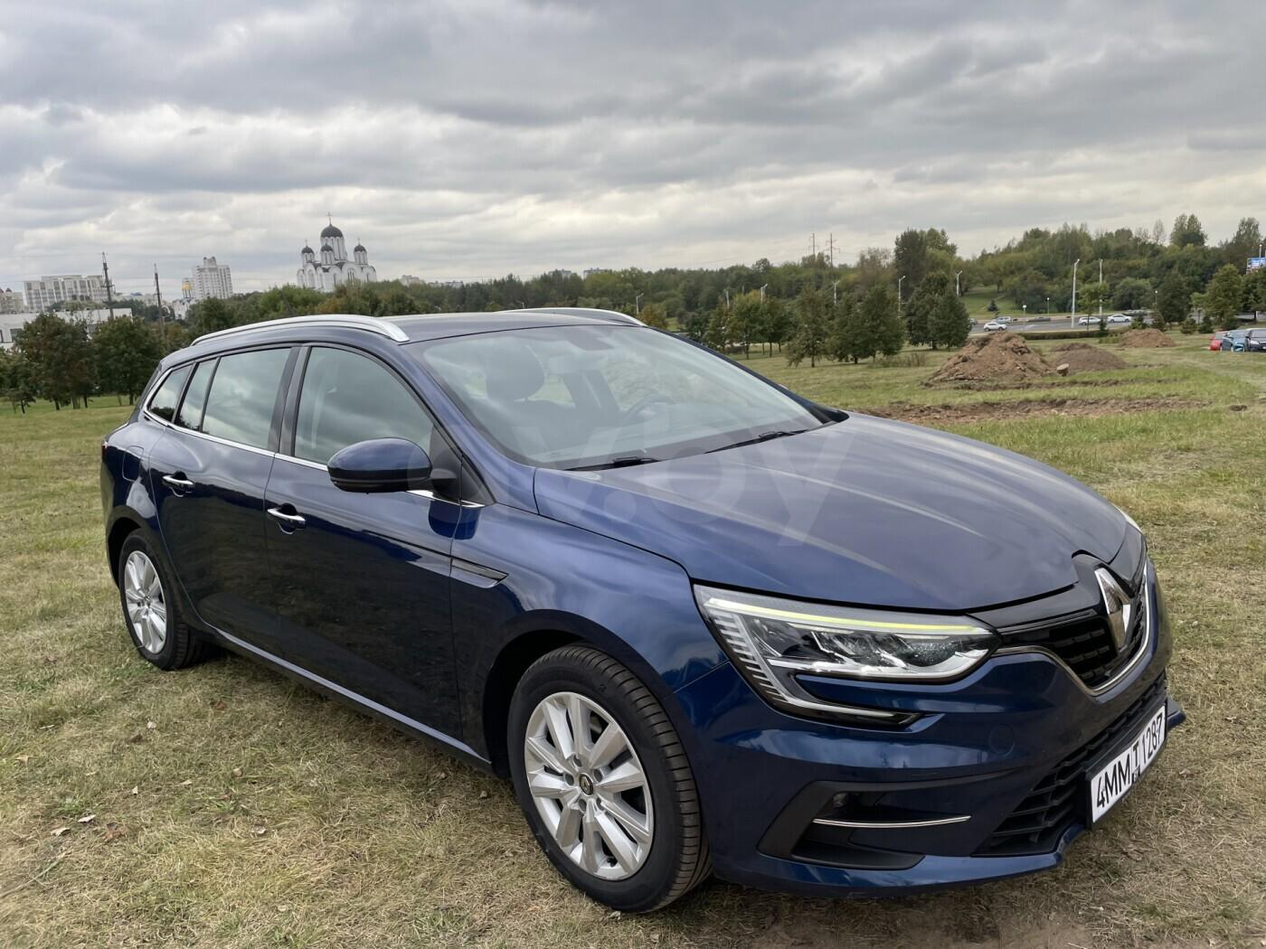Megane_2020: (90, 306, 1173, 917)
